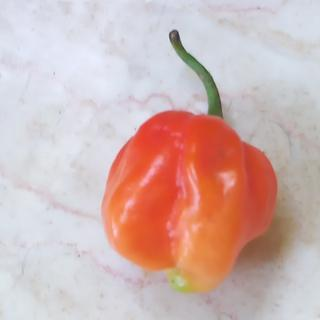Grade-B: (94, 102, 281, 297)
